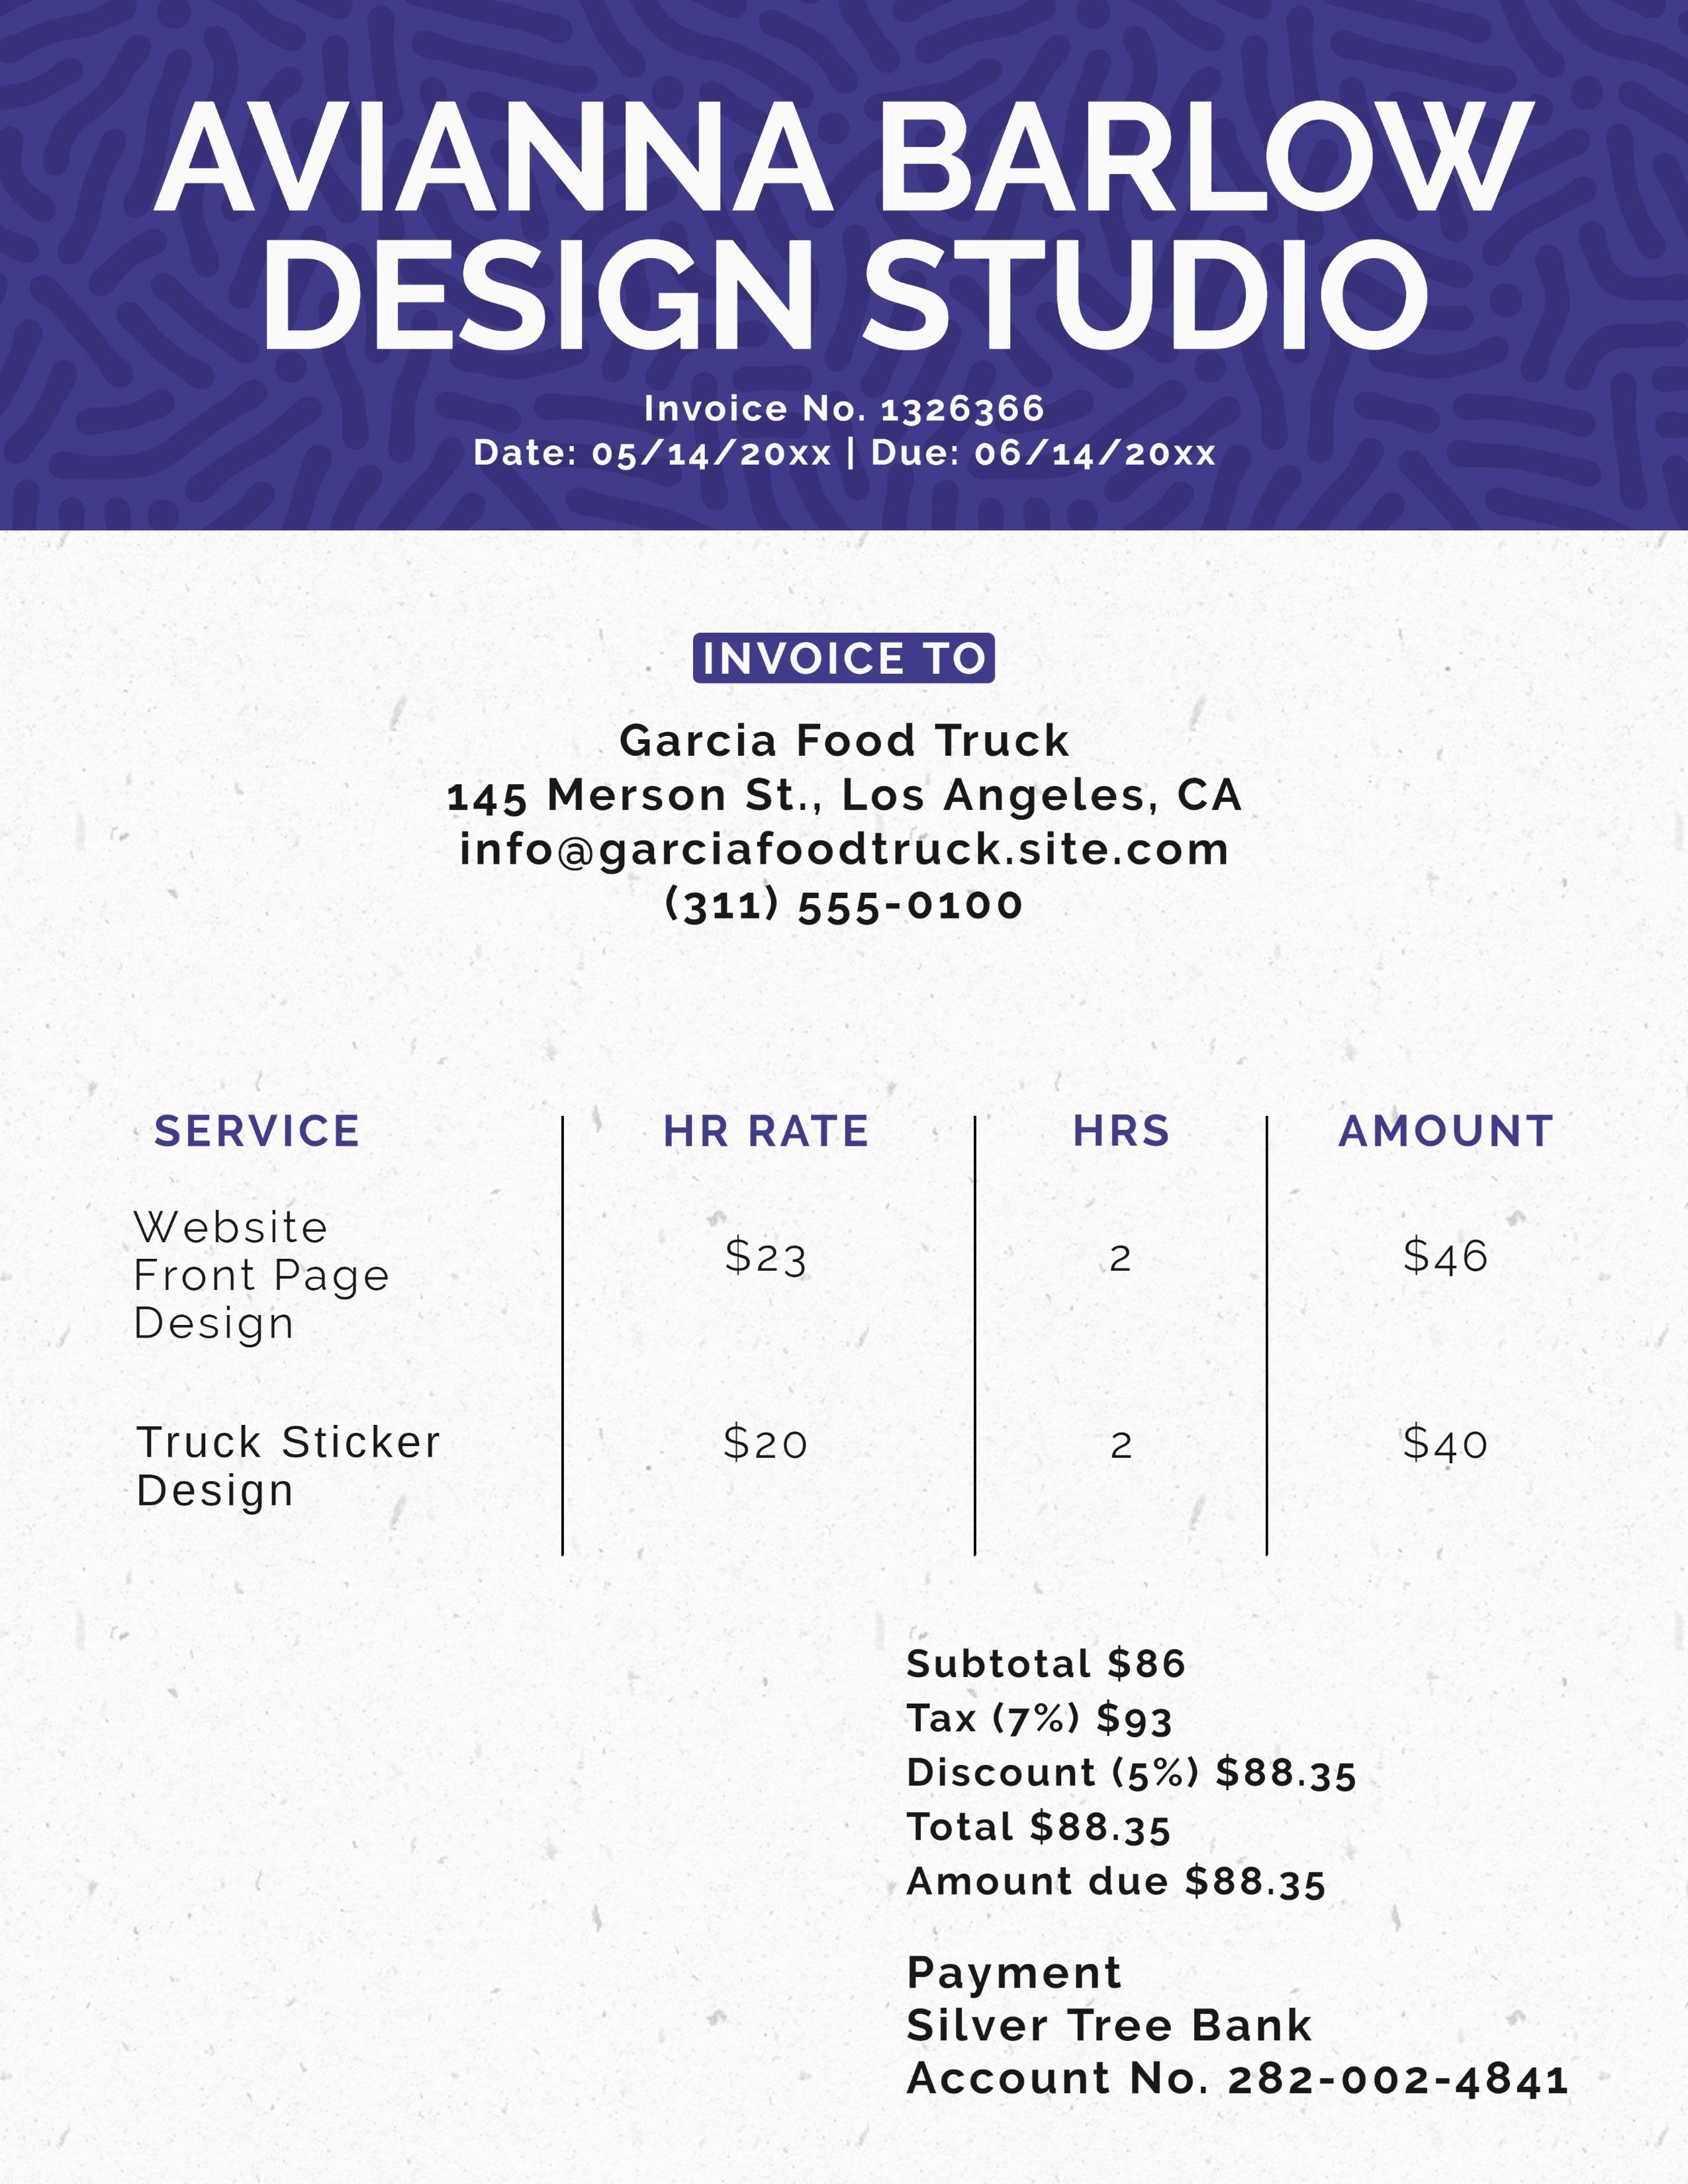ROI: (115, 1088, 1555, 1523), (129, 76, 1573, 363), (440, 626, 1248, 954), (887, 1626, 1390, 1909), (901, 1948, 1585, 2134), (447, 363, 1238, 489)
